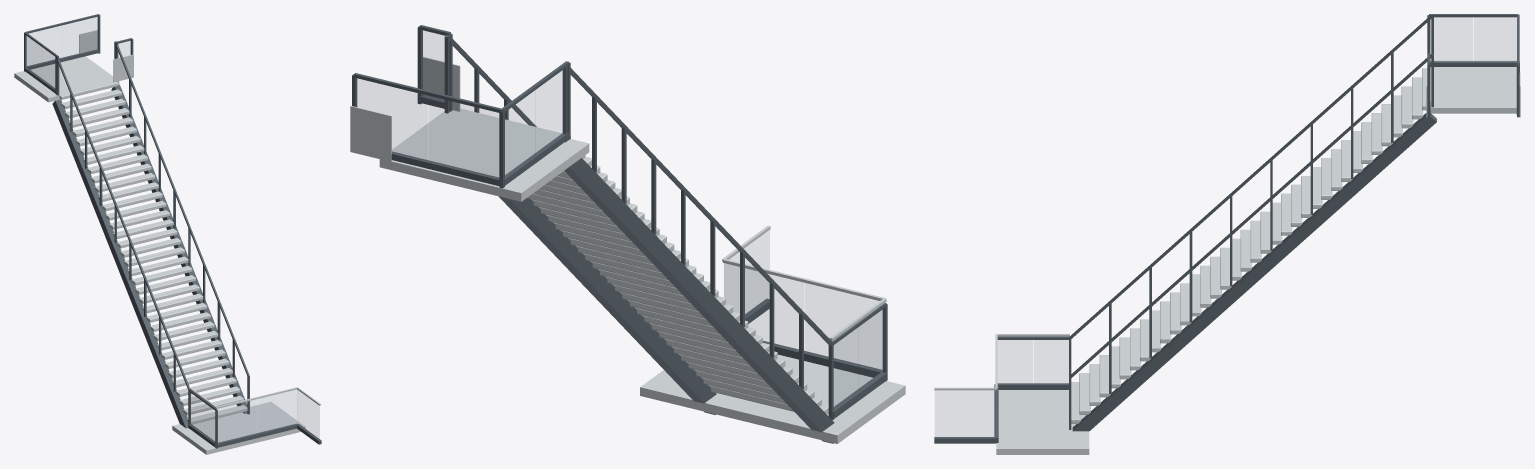
The model's file is roof-stair.glb.
3 views of the same model, side by side, from view 1: azimuth 30°, elevation 25°; view 2: azimuth 150°, elevation 25°; view 3: azimuth 270°, elevation 25° (orthographic). The views are drawn at different scales.
Parts seen in each view (by area): view 1: Stair - stringer, Stair - terrace landing, Stair - roof landing, Stair - stringer.001, Landing connection - rear return - infill 0, Landing connection - rear return - infill 1, Roof landing - rear glass 1, Stair - handrail.001, Stair - handrail, Landing connection - side - infill 0, Roof landing - rear glass 0, Roof landing - outer glass 1 (+43 smaller); view 2: Stair - roof landing, Stair - stringer, Stair - terrace landing, Stair - stringer.001, Roof landing - rear glass 0, Landing connection - rear return - infill 0, Roof landing - rear glass 1, Landing connection - rear return - infill 1, Stair - handrail, Roof landing - parapet end trim.001, Roof landing - outer glass 1, Roof landing - outer glass 0 (+38 smaller); view 3: Stair - stringer.001, Stair - terrace landing, Stair - roof landing, Landing connection - side - infill 0, Roof landing - outer glass 1, Stair - handrail.001, Stair - handrail, Roof landing - outer glass 0, Landing connection - outer return - infill 0, Landing connection - outer return - infill 1.
Boxes of the visible parts, x1,y1,x2,y2 form: Stair - stringer: (52,99,188,428); Stair - terrace landing: (172,402,305,454); Stair - roof landing: (14,56,119,102); Stair - stringer.001: (111,84,250,413); Landing connection - rear return - infill 0: (258,390,296,433); Landing connection - rear return - infill 1: (217,400,256,442); Roof landing - rear glass 1: (62,17,97,57); Stair - handrail.001: (115,41,249,375); Stair - handrail: (56,58,189,390); Landing connection - side - infill 0: (297,390,319,439); Roof landing - rear glass 0: (30,26,61,57); Roof landing - outer glass 1: (26,36,40,78); Stair - roof landing: (379,110,589,201); Stair - stringer: (564,158,834,443); Stair - terrace landing: (640,354,905,443); Stair - stringer.001: (498,196,716,414); Roof landing - rear glass 0: (429,96,498,178); Landing connection - rear return - infill 0: (724,264,803,349); Roof landing - rear glass 1: (356,78,427,160); Landing connection - rear return - infill 1: (805,283,878,357); Stair - handrail: (567,66,832,345); Roof landing - parapet end trim.001: (350,106,391,161); Roof landing - outer glass 1: (505,91,534,177); Roof landing - outer glass 0: (536,69,564,154); Stair - stringer.001: (1072,113,1436,431); Stair - terrace landing: (996,390,1089,454); Stair - roof landing: (1430,60,1519,113); Landing connection - side - infill 0: (935,391,995,437); Roof landing - outer glass 1: (1474,18,1516,61); Stair - handrail.001: (1069,53,1432,377); Stair - handrail: (1069,15,1432,338); Roof landing - outer glass 0: (1434,18,1472,61); Landing connection - outer return - infill 0: (998,340,1032,383); Landing connection - outer return - infill 1: (1034,340,1068,383).
Bounding box in the file's own units: 2.85 × 7.88 × 10.75.
